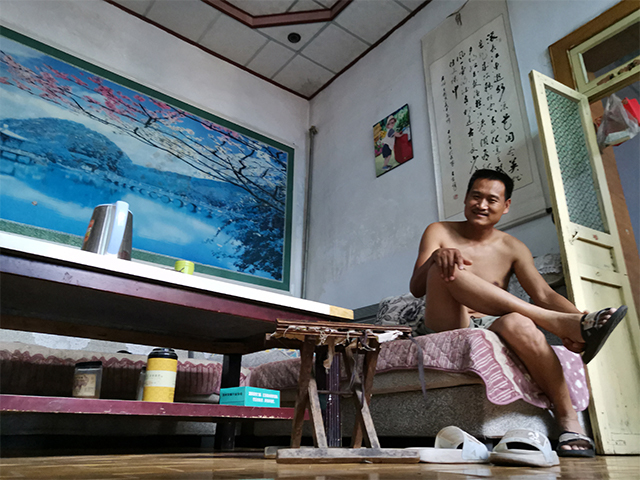slippers: (484, 424, 562, 467), (412, 423, 490, 466)
sofa: (1, 324, 596, 457)
stool: (261, 316, 423, 465)
table: (1, 230, 357, 451)
